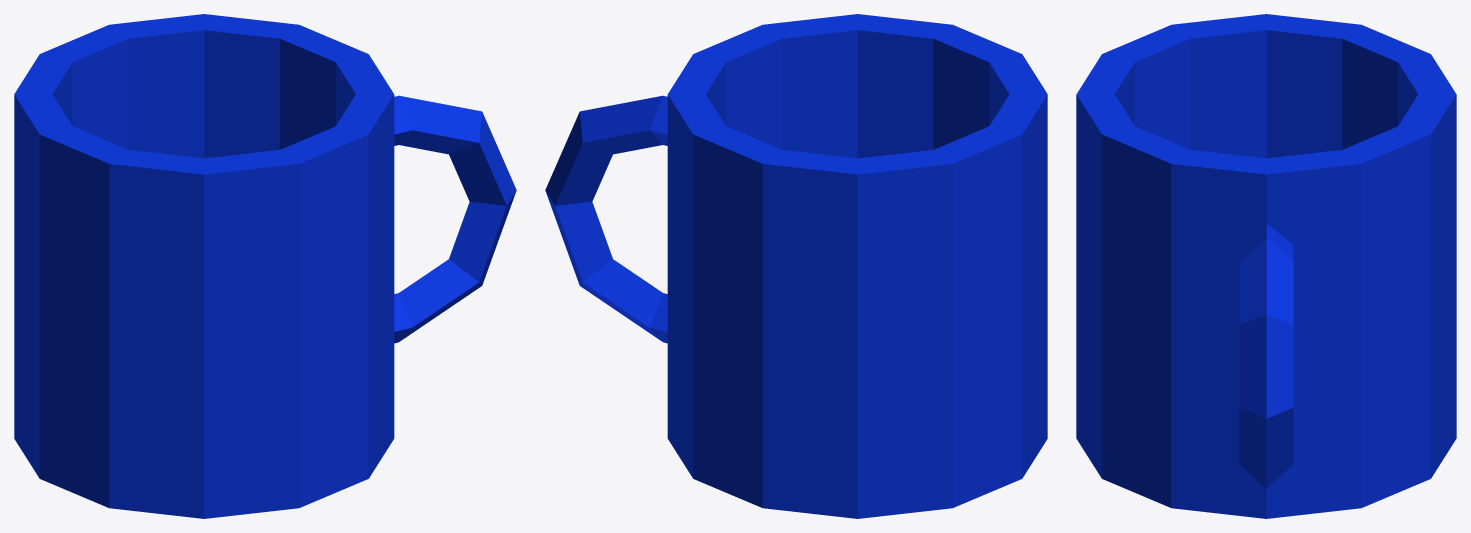
Rendered from Mug.fbx.
3 views of the same model, side by side, from view 1: azimuth 30°, elevation 25°; view 2: azimuth 150°, elevation 25°; view 3: azimuth 270°, elevation 25° (orthographic).
Visible parts, largest first — view 1: Mug; view 2: Mug; view 3: Mug.
Boxes of the visible parts, bbox=[...] form: Mug: bbox=[14, 14, 516, 518]; Mug: bbox=[545, 14, 1047, 518]; Mug: bbox=[1076, 14, 1456, 518].
Bounding box in the file's own units: 19.42 × 13.4 × 13.4.
